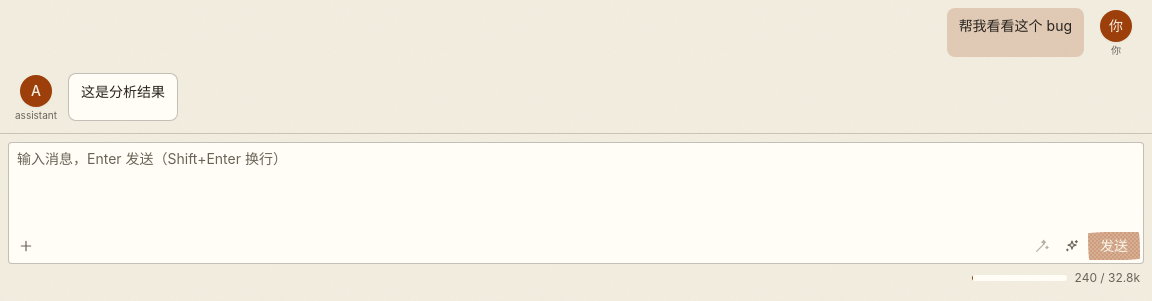
Test: ChatView — WeChat-style bubble toolbar (气泡工具栏) › pops the toolbar above the assistant bubble on click (quote + copy, no rollback)
The width and height of the screenshot is (1152, 301).
Expected: the text "帮我看看这个 bug" is shown, [959,16,1072,36]
Expected: the text "这是分析结果" is shown, [81,82,165,102]
Click the text "这是分析结果".
click(123, 97)  # box [68,72,178,121]
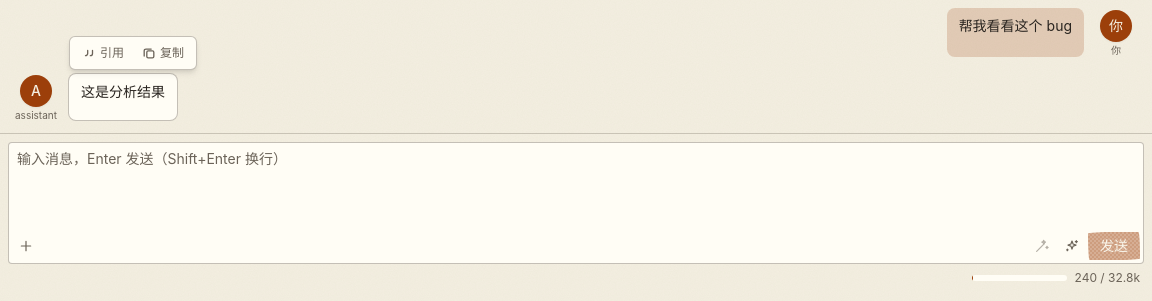
Now the button "引用" is shown, box [74,38,132,66]
Now the button "复制" is shown, box [134,38,192,66]
